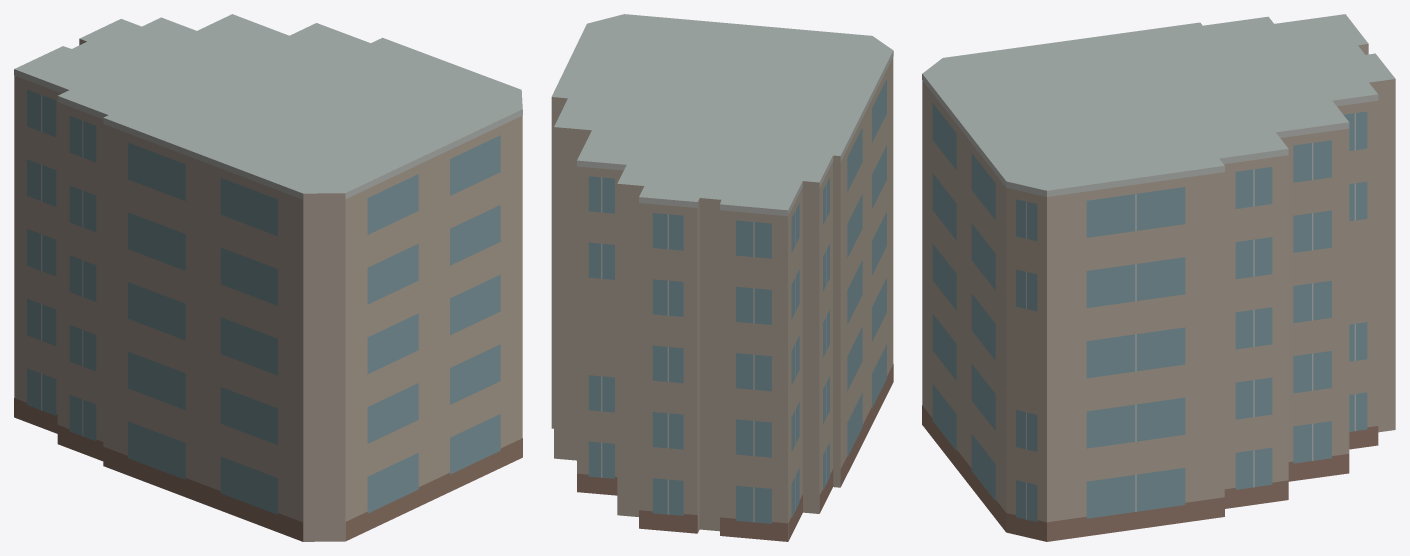
Rendered from survey-upis-32591853.glb.
3 renders of one model, left to right at view 1: azimuth 30°, elevation 25°; view 2: azimuth 150°, elevation 25°; view 3: azimuth 270°, elevation 25°, orthographic. The views are drawn at different scales.
Visible parts, largest first — view 1: survey-upis-32591853.tmp; view 2: survey-upis-32591853.tmp; view 3: survey-upis-32591853.tmp.
Boxes of the visible parts, left/top/right/bottom form: survey-upis-32591853.tmp: left=14, top=14, right=522, bottom=541; survey-upis-32591853.tmp: left=551, top=14, right=893, bottom=541; survey-upis-32591853.tmp: left=922, top=14, right=1395, bottom=541.
Size of the model in its own units: 14.7 by 13.6 by 16.63.
